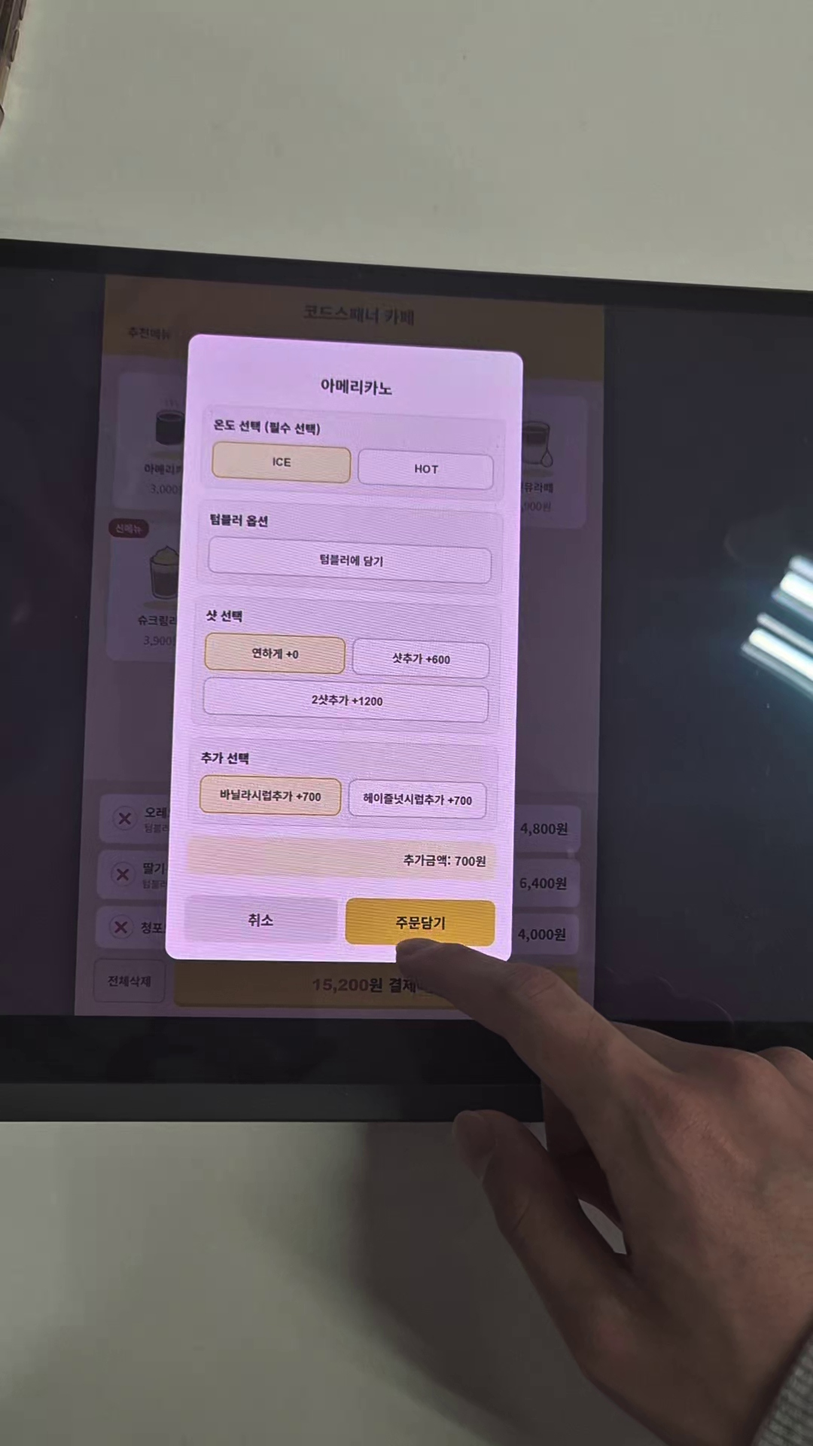action_button: (183, 895, 338, 942), (345, 898, 495, 946)
option_button: (208, 537, 491, 583), (204, 678, 488, 722), (212, 441, 351, 482), (205, 633, 346, 673), (200, 777, 341, 816), (358, 450, 493, 490), (353, 639, 490, 678), (348, 780, 487, 818)
popup_modal: (166, 334, 523, 965)
